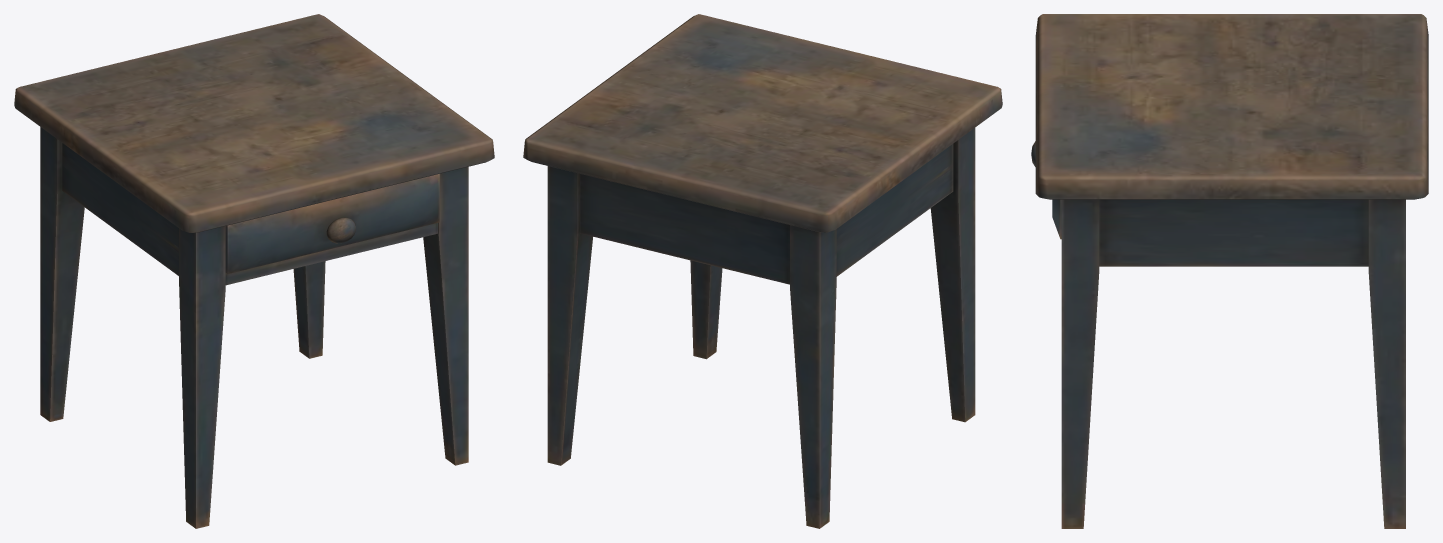
Rendered from ph-painted-wooden-nightstand.glb.
3 renders of one model, left to right at view 1: azimuth 30°, elevation 25°; view 2: azimuth 150°, elevation 25°; view 3: azimuth 270°, elevation 25°, orthographic. The views are drawn at different scales.
Parts seen in each view (by area): view 1: painted_wooden_nightstand; view 2: painted_wooden_nightstand; view 3: painted_wooden_nightstand.
Boxes of the visible parts, x1,y1,x2,y2 form: painted_wooden_nightstand: (14,14,494,528); painted_wooden_nightstand: (523,14,1002,528); painted_wooden_nightstand: (1031,14,1428,528).
Size of the model in its own units: 1 by 1 by 1.
1 material, 1 textured.
